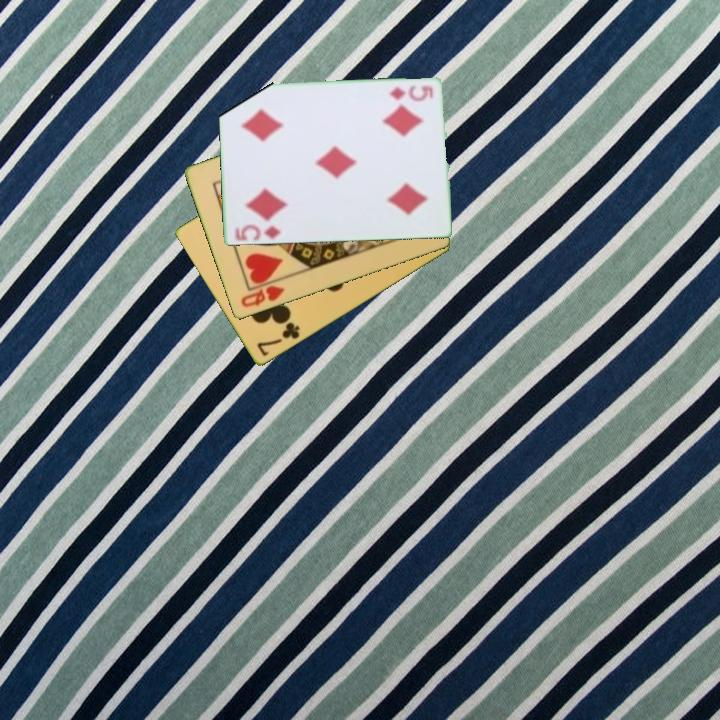5d: (232, 221, 284, 244), (385, 82, 435, 104)
7c: (253, 319, 303, 360)
Qh: (237, 282, 288, 311)
